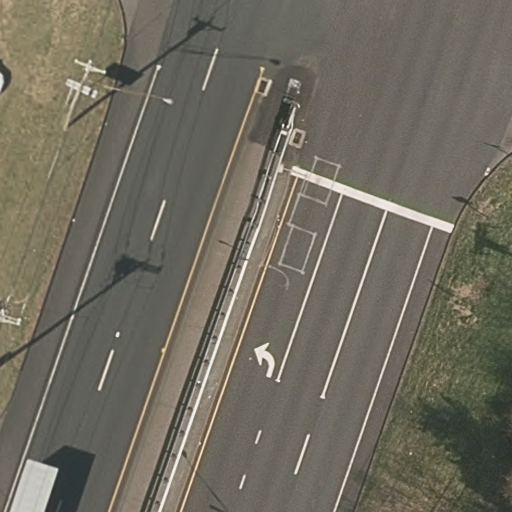DT: (51, 53, 115, 141)
